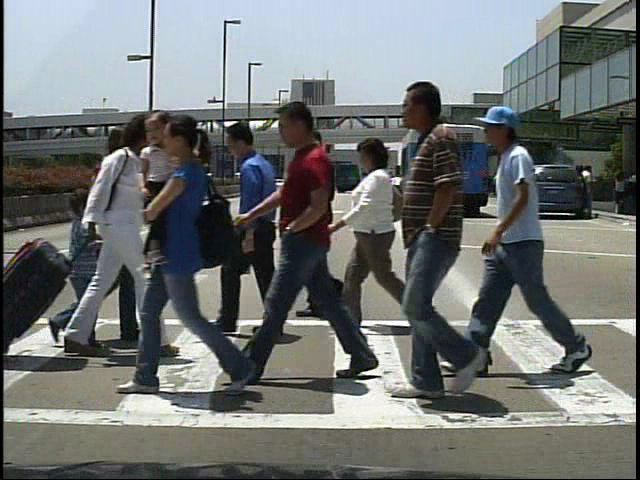person: (389, 84, 516, 421), (64, 113, 175, 363), (272, 94, 359, 385), (485, 102, 566, 379), (203, 123, 302, 346), (330, 135, 430, 334), (287, 130, 360, 322), (85, 115, 141, 361), (39, 194, 104, 352), (582, 167, 602, 218), (508, 166, 528, 215), (496, 166, 514, 218)
